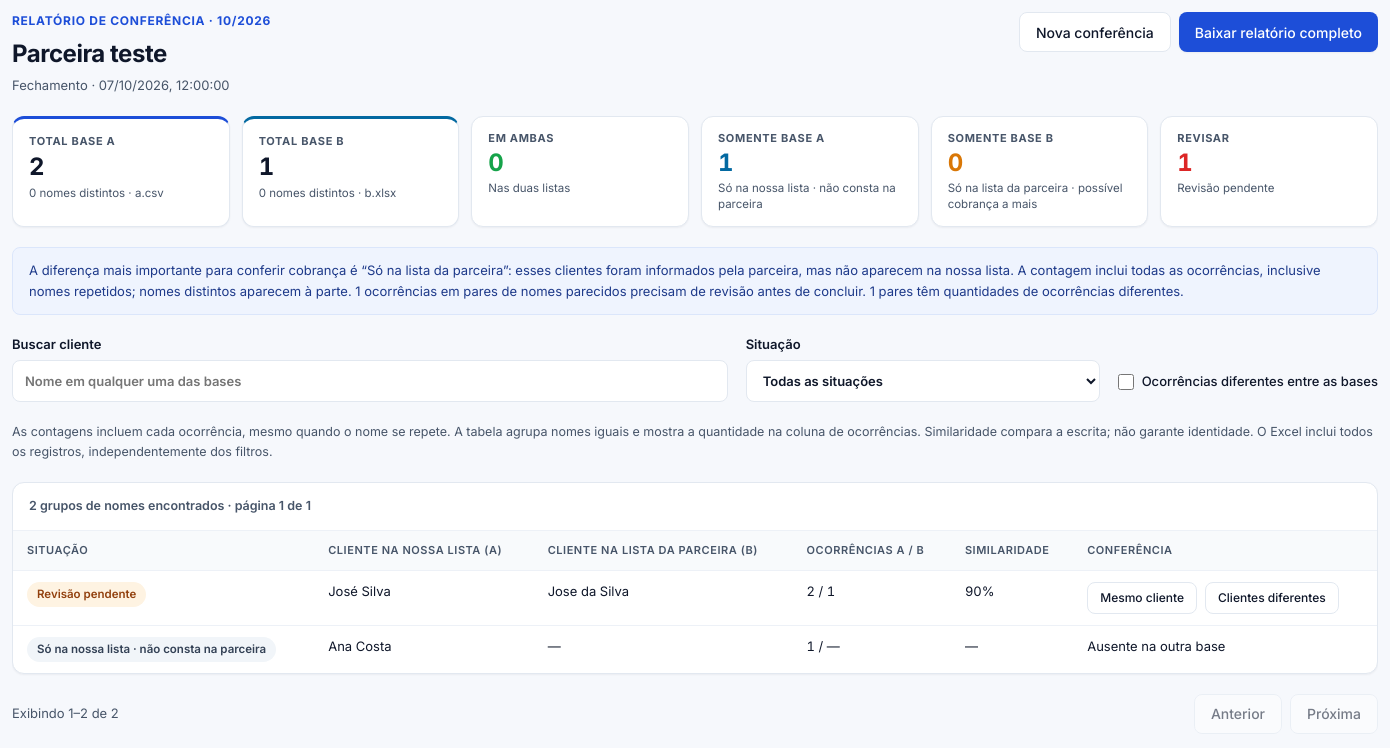
Test: Relatório de conferência › busca ignorando acentos e limpa filtros sem perder registros
Type "JOSE" into the search field labelled "Buscar cliente". click: (370, 381)
box: [12,360,728,402]
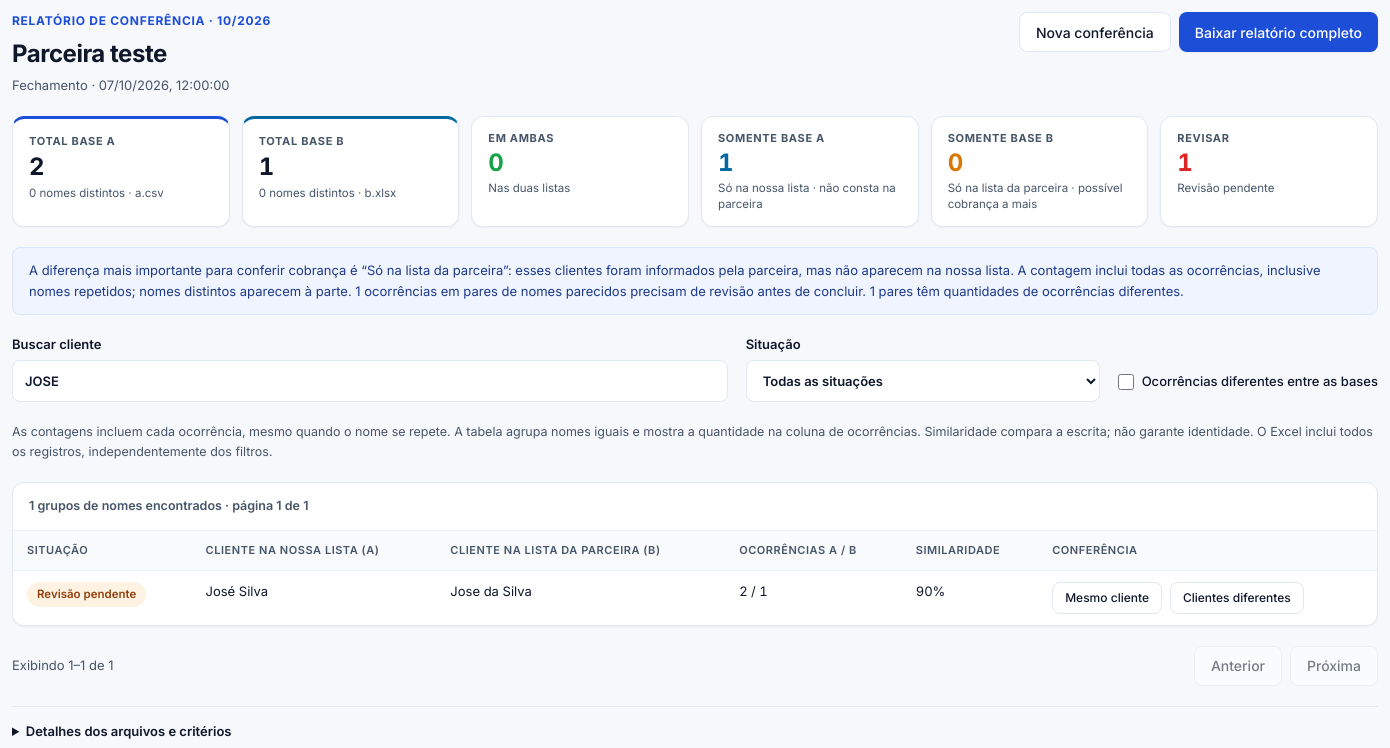
Check: the text "José Silva" is shown, box [192,570,436,625]
Check: the text "Ana Costa" is gone
Replace the text in the search field labelled "Buscar cliente" with "inexistente". click: (370, 381)
box: [12,360,728,402]
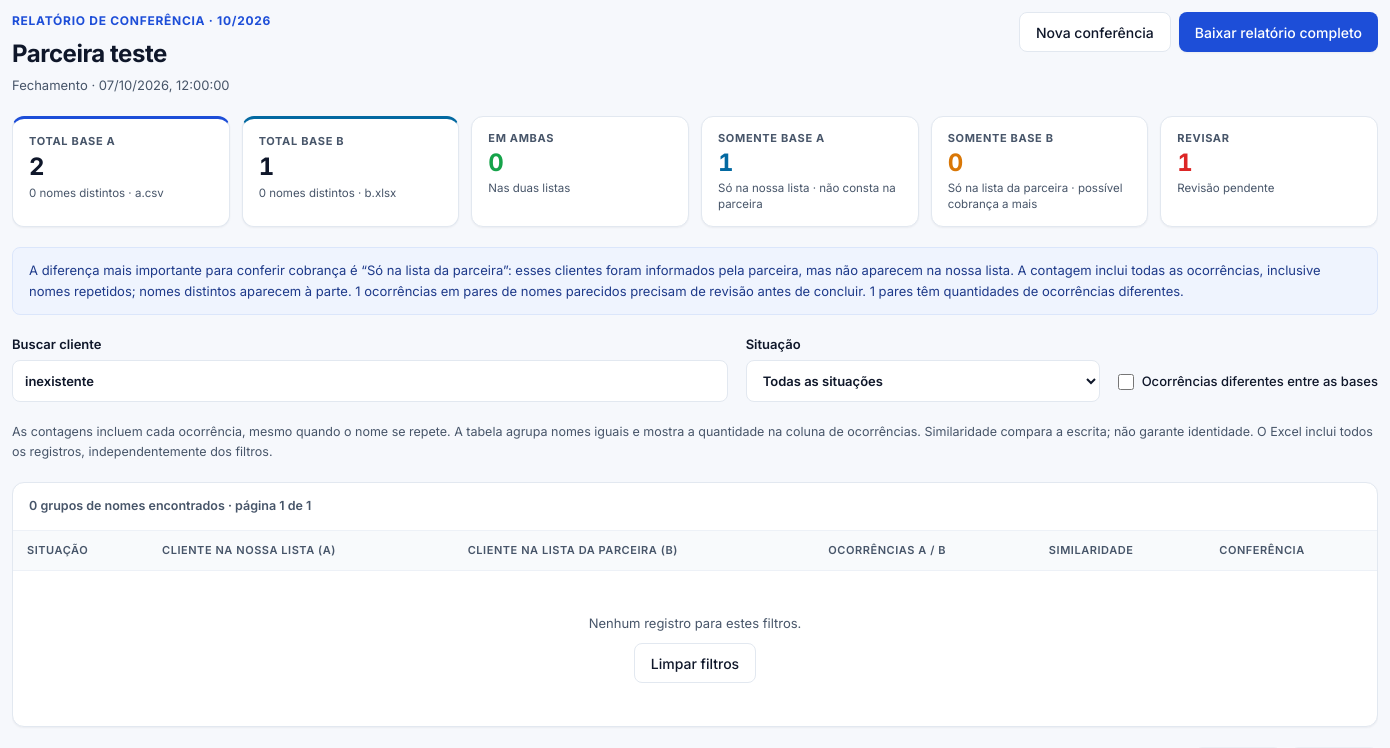
Click the button "Limpar filtros". click: (695, 663)
box: [634,643,756,683]
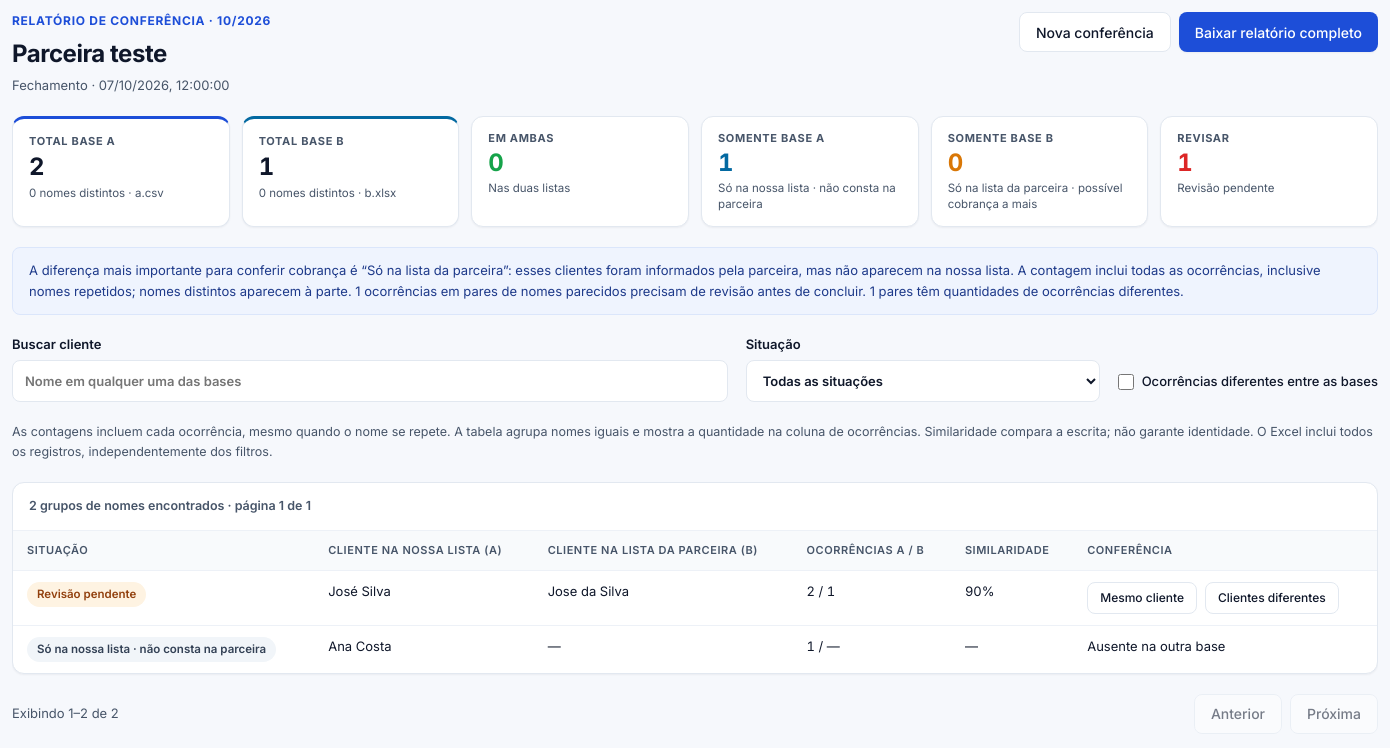
Check: the text "Ana Costa" is shown, box [314,625,534,673]
